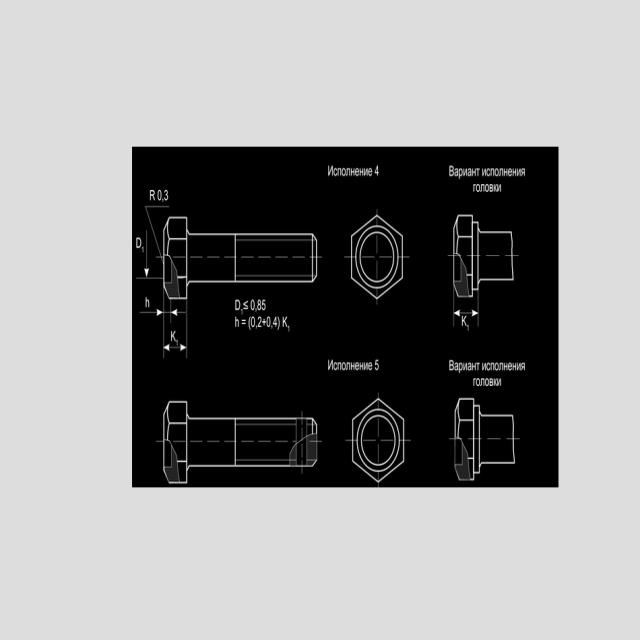marking_line: (137, 298, 188, 357), (139, 299, 188, 317), (145, 231, 162, 280), (453, 298, 480, 326)
numeric: (149, 189, 156, 201), (265, 314, 271, 328), (460, 314, 467, 326), (250, 299, 256, 312), (282, 316, 288, 329), (136, 237, 142, 249), (163, 190, 169, 201), (157, 189, 162, 202), (250, 316, 255, 329), (273, 317, 278, 329), (171, 330, 176, 342), (257, 299, 262, 310), (235, 300, 240, 311), (375, 359, 379, 372), (235, 317, 240, 327), (375, 166, 380, 176), (258, 317, 262, 329), (262, 299, 265, 311)
special_symbol: (243, 301, 249, 310), (248, 316, 251, 330), (241, 319, 247, 326), (262, 318, 266, 326), (278, 316, 280, 330), (241, 308, 243, 315), (288, 325, 290, 332), (255, 324, 257, 329)
